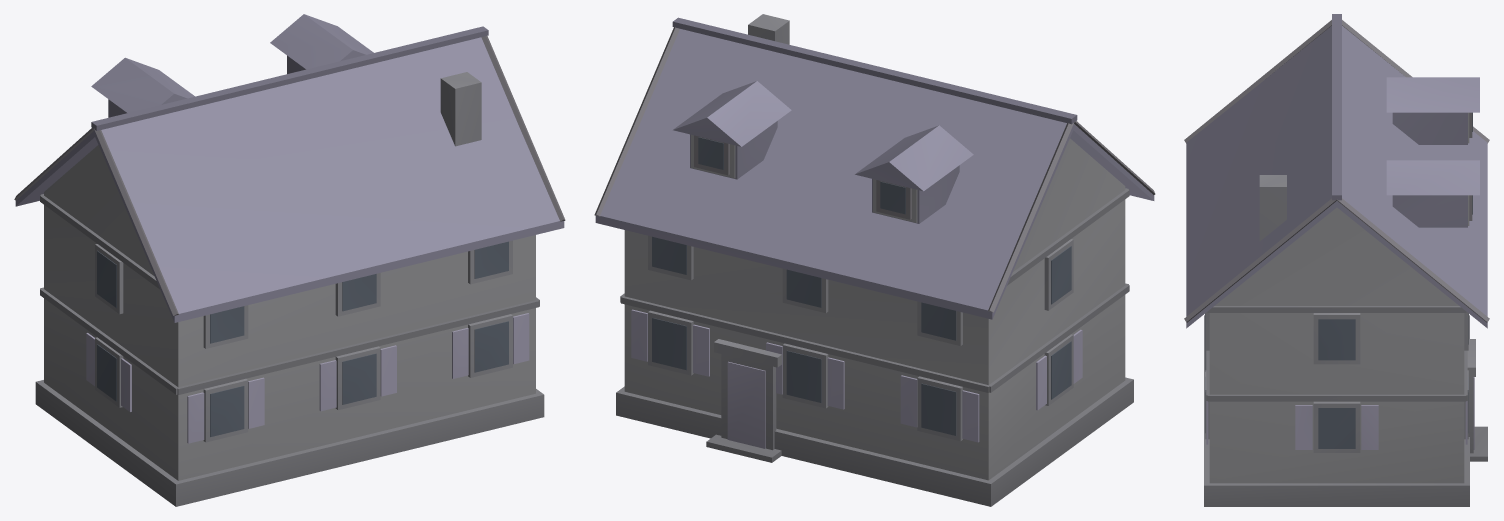
Rendered from hall_storm.gltf.
3 renders of one model, left to right at view 1: azimuth 30°, elevation 25°; view 2: azimuth 150°, elevation 25°; view 3: azimuth 270°, elevation 25°, orthographic. The views are drawn at different scales.
Visible parts, largest first — view 1: Body; view 2: Body; view 3: Body.
Boxes of the visible parts, x1,y1,x2,y2 form: Body: [14, 14, 565, 506]; Body: [594, 14, 1155, 506]; Body: [1184, 14, 1489, 506].
Bounding box in the file's own units: 10.97 × 8.94 × 7.81.
